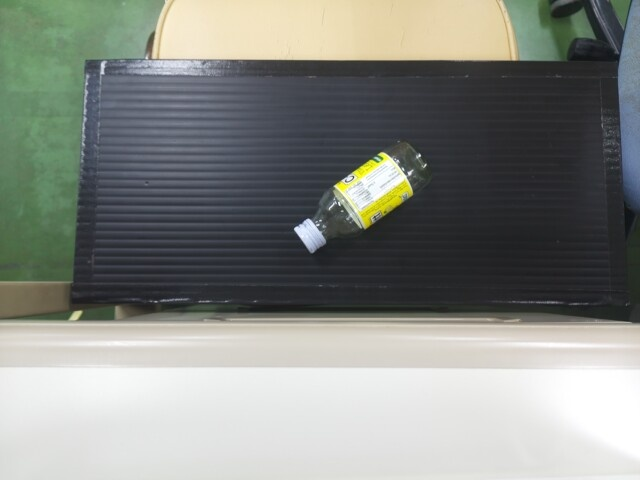glass_bottle: (288, 135, 430, 261)
